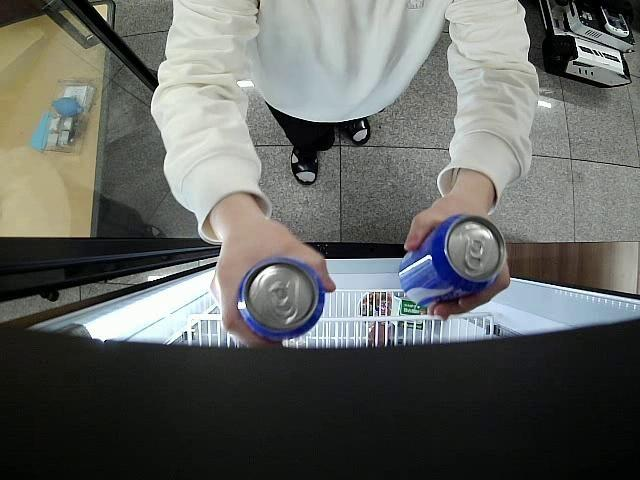13_pocariSweat: (398, 214, 506, 308), (238, 257, 326, 342)
